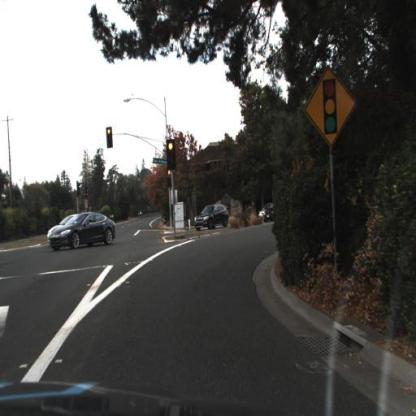car: (48, 211, 118, 253), (193, 202, 232, 231), (264, 202, 277, 225)
trafficLight-Red: (166, 139, 178, 170), (104, 126, 116, 150), (167, 171, 172, 188)
